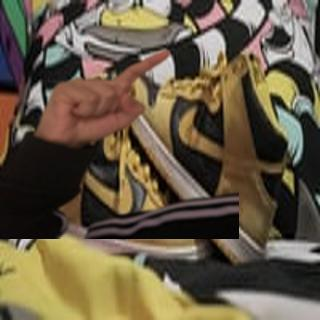WHY: (36, 45, 179, 146)
